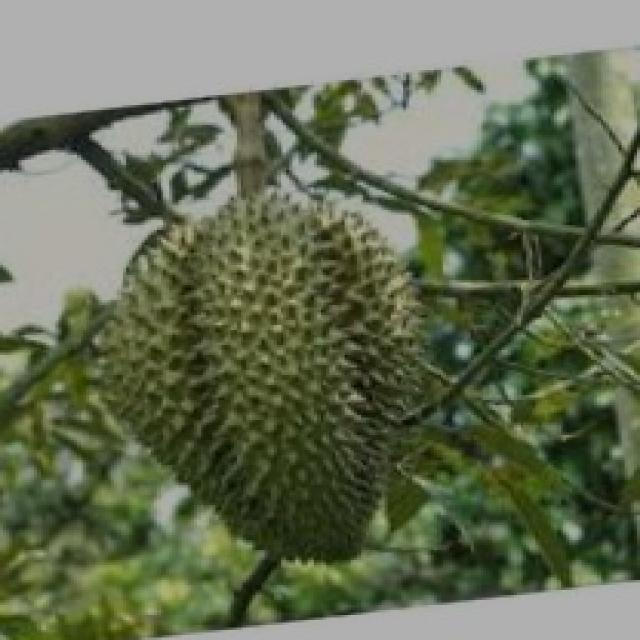fruit: (55, 165, 468, 590)
